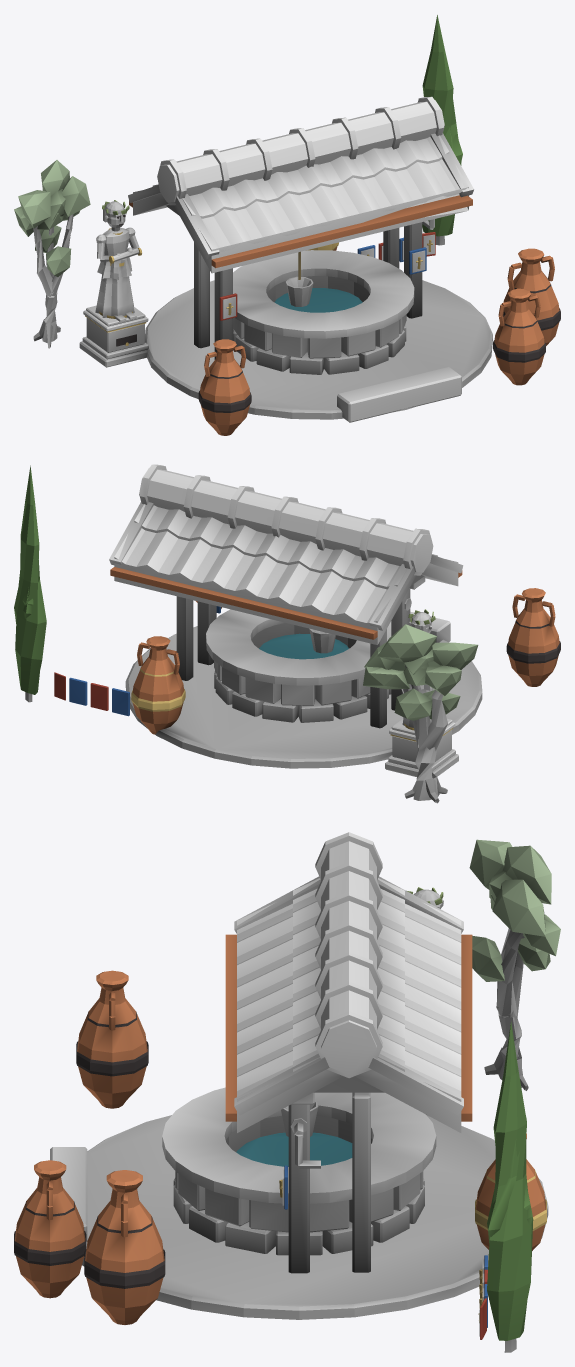
File: offering-well-l1.glb
3 views of the same model, one above another, from view 1: azimuth 30°, elevation 25°; view 2: azimuth 150°, elevation 25°; view 3: azimuth 270°, elevation 25° (orthographic). The views are drawn at different scales.
Visible parts, largest first — view 1: offering-well-l1; view 2: offering-well-l1; view 3: offering-well-l1.
Part boxes in pixels (box(x1,y1,x2,y2)): offering-well-l1: box(14, 15, 560, 435); offering-well-l1: box(14, 464, 560, 803); offering-well-l1: box(14, 832, 560, 1352).
Bounding box in the file's own units: 1.52 × 0.7584 × 1.14.
